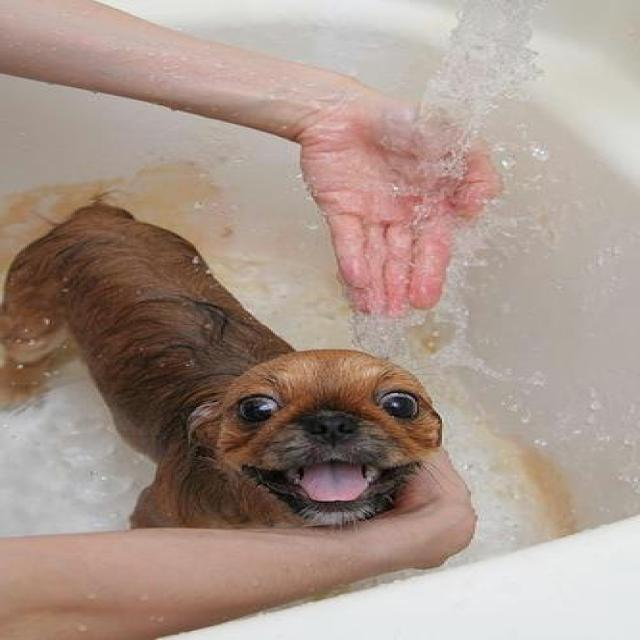pekinese: (4, 192, 448, 532)
